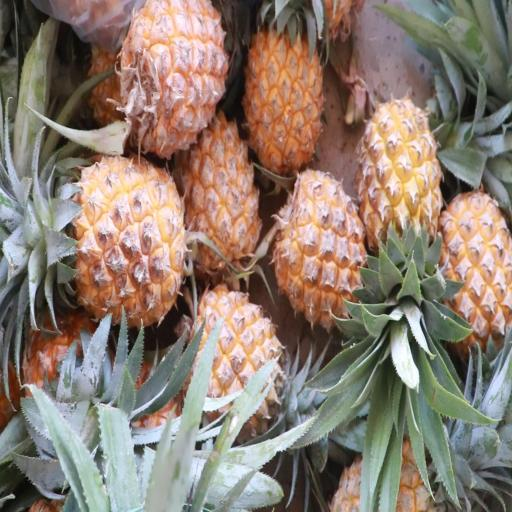Pineapple - v8 v1: (20, 152, 190, 330), (114, 0, 229, 163), (182, 281, 296, 439), (270, 164, 373, 333), (355, 95, 443, 291), (242, 2, 326, 186), (179, 100, 264, 276), (439, 187, 512, 375)
